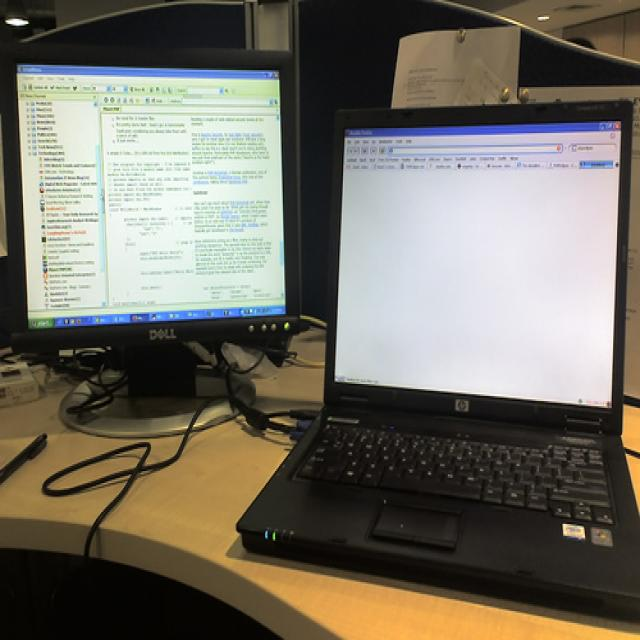tvmonitor: (1, 49, 303, 440)
